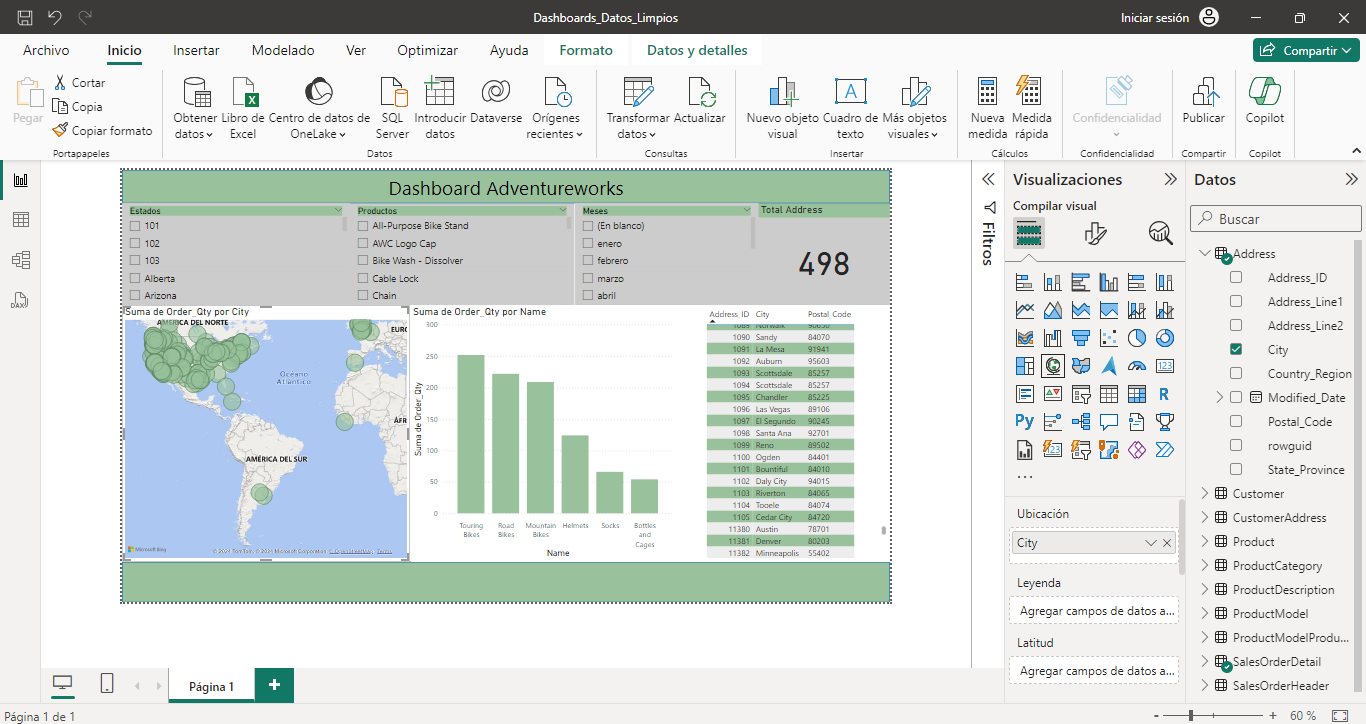

This screenshot's page, from the dashboard's own definition file:
{"tool":"powerbi","page":{"name":"Página 1","canvas":[1280,720],"ordinal":0},"visuals":[{"type":"map","fields":{"Category":["Address.City"],"Size":["Sum(SalesOrderDetail.Order_Qty)"]},"box":[0,225.7,480,427.1],"z":0},{"type":"clusteredColumnChart","fields":{"Category":["ProductCategory.Name"],"Y":["Sum(SalesOrderDetail.Order_Qty)"]},"box":[480,225.7,442.9,427.1],"z":1000},{"type":"card","fields":{"Values":["CountNonNull(Customer.Customer_ID)"]},"box":[1097.1,225.7,182.9,150],"z":2000},{"type":"slicer","fields":{"Values":["Product.Name"]},"box":[380,55.7,374.3,170],"z":3000},{"type":"card","title":"Total Address","fields":{"Values":["CountNonNull(Address.Address_ID)"]},"box":[1060,55.7,220,170],"z":4000},{"type":"tableEx","fields":{"Values":["Address.Address_ID","Address.City","Address.Postal_Code"]},"box":[968.6,225.7,311.4,427.1],"z":5000},{"type":"shape","box":[0,0,1280,55.7],"z":6000},{"type":"shape","box":[0,652.9,1280,67.1],"z":7000},{"type":"slicer","fields":{"Values":["Address.State_Province"]},"box":[0,55.7,380,170],"z":8000},{"type":"slicer","fields":{"Values":["SalesOrderHeader.Due_Date.Variación.Jerarquía de fechas.Mes"]},"box":[754.3,55.7,305.7,170],"z":9000}]}

Visuals, with their boxes on the page's 1280x720 design canvas (x1, y1, x2, y2). These are canvas units, not pixel positions in the 1366x724 screenshot, which may show the page scaled, cropped or inside an application window:
map - Address.City x Sum(SalesOrderDetail.Order_Qty): bbox(0, 226, 480, 653)
clusteredColumnChart - ProductCategory.Name x Sum(SalesOrderDetail.Order_Qty): bbox(480, 226, 923, 653)
card - CountNonNull(Customer.Customer_ID): bbox(1097, 226, 1280, 376)
slicer - Product.Name: bbox(380, 56, 754, 226)
"Total Address" card: bbox(1060, 56, 1280, 226)
tableEx - Address.Address_ID x Address.City: bbox(969, 226, 1280, 653)
shape: bbox(0, 0, 1280, 56)
shape: bbox(0, 653, 1280, 720)
slicer - Address.State_Province: bbox(0, 56, 380, 226)
slicer - SalesOrderHeader.Due_Date.Variación.Jerarquía de fechas.Mes: bbox(754, 56, 1060, 226)
